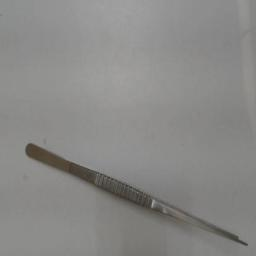DeBakey Dissector: (18, 130, 256, 254)
